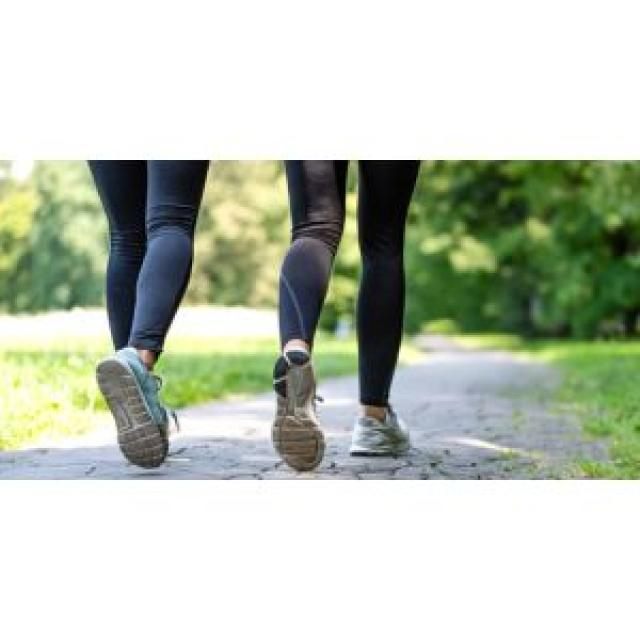nonfall: (243, 168, 442, 464), (64, 170, 214, 467)
